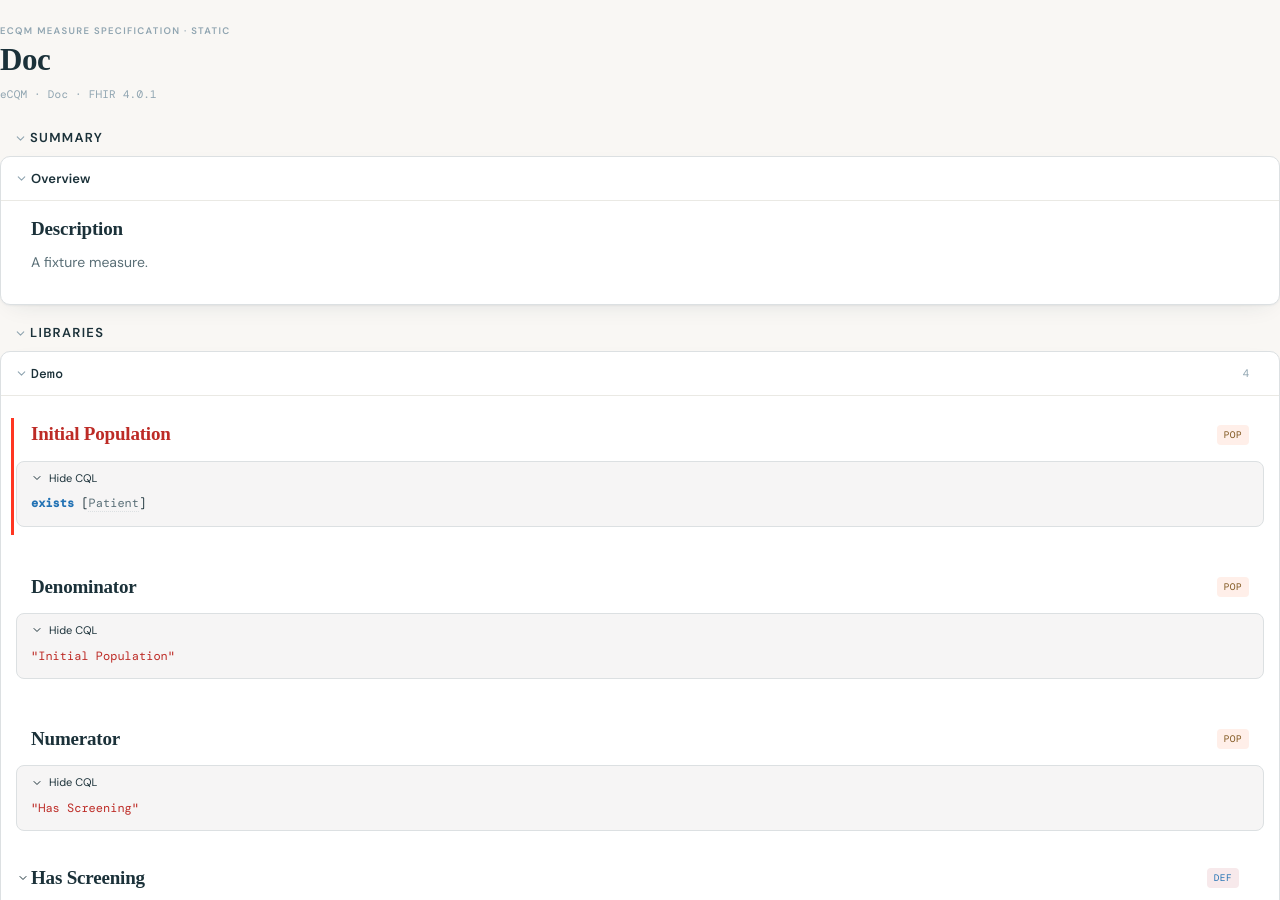
Scenario: the lens's tab and the pane's tab are independent (SPEC-REF-LENS) › switching the lens's tab leaves the pinned pane's tab alone
The width and height of the screenshot is (1280, 900).
Expected: the list item "pop Initial Population Hide CQL exists [ Patient ]" is shown, top-left (17, 410), bottom-right (1263, 543)
Click the button "Patient" at [114, 504], box top-left (89, 494), bottom-right (139, 514)
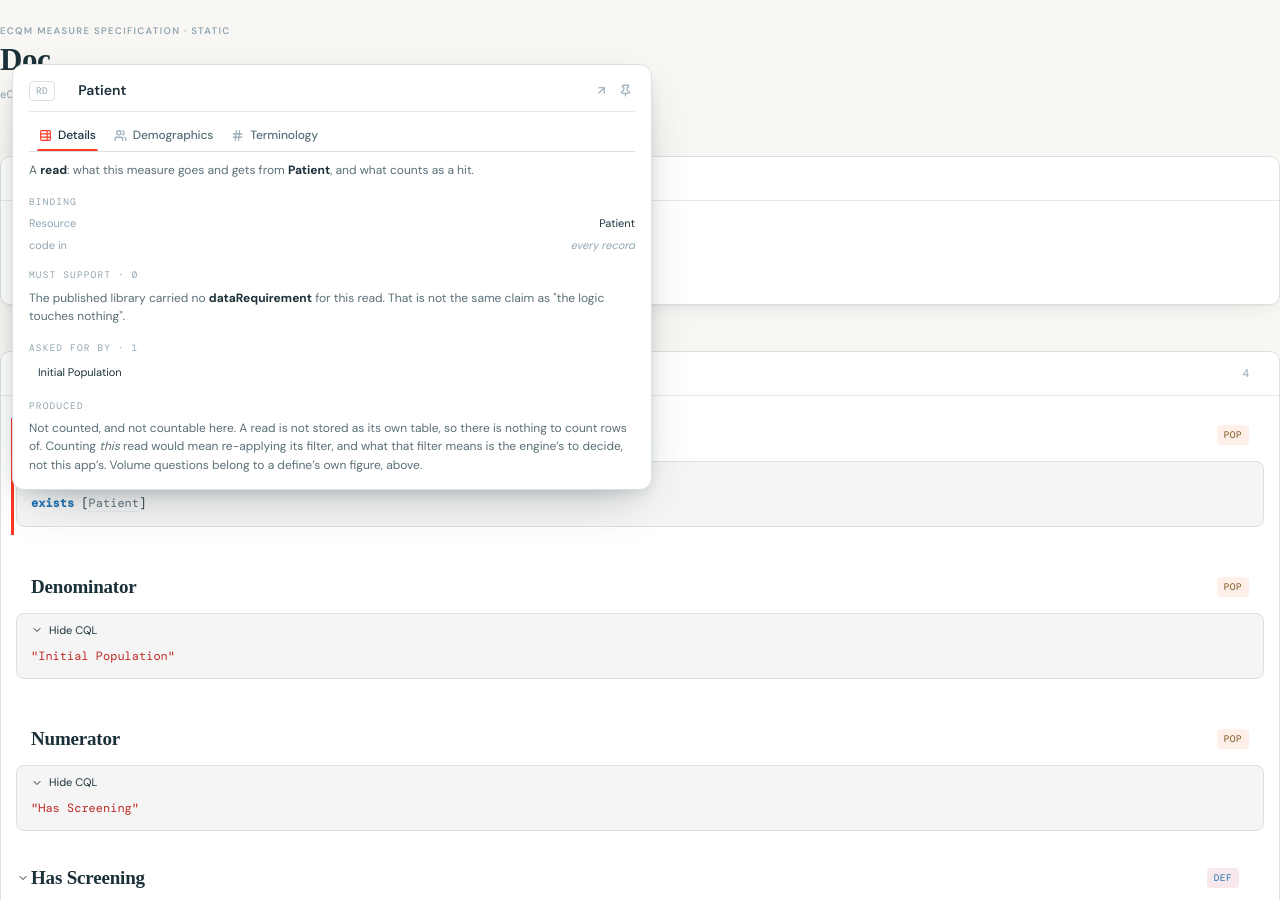
Click the tab "Terminology" at [275, 136], box top-left (223, 122), bottom-right (326, 152)
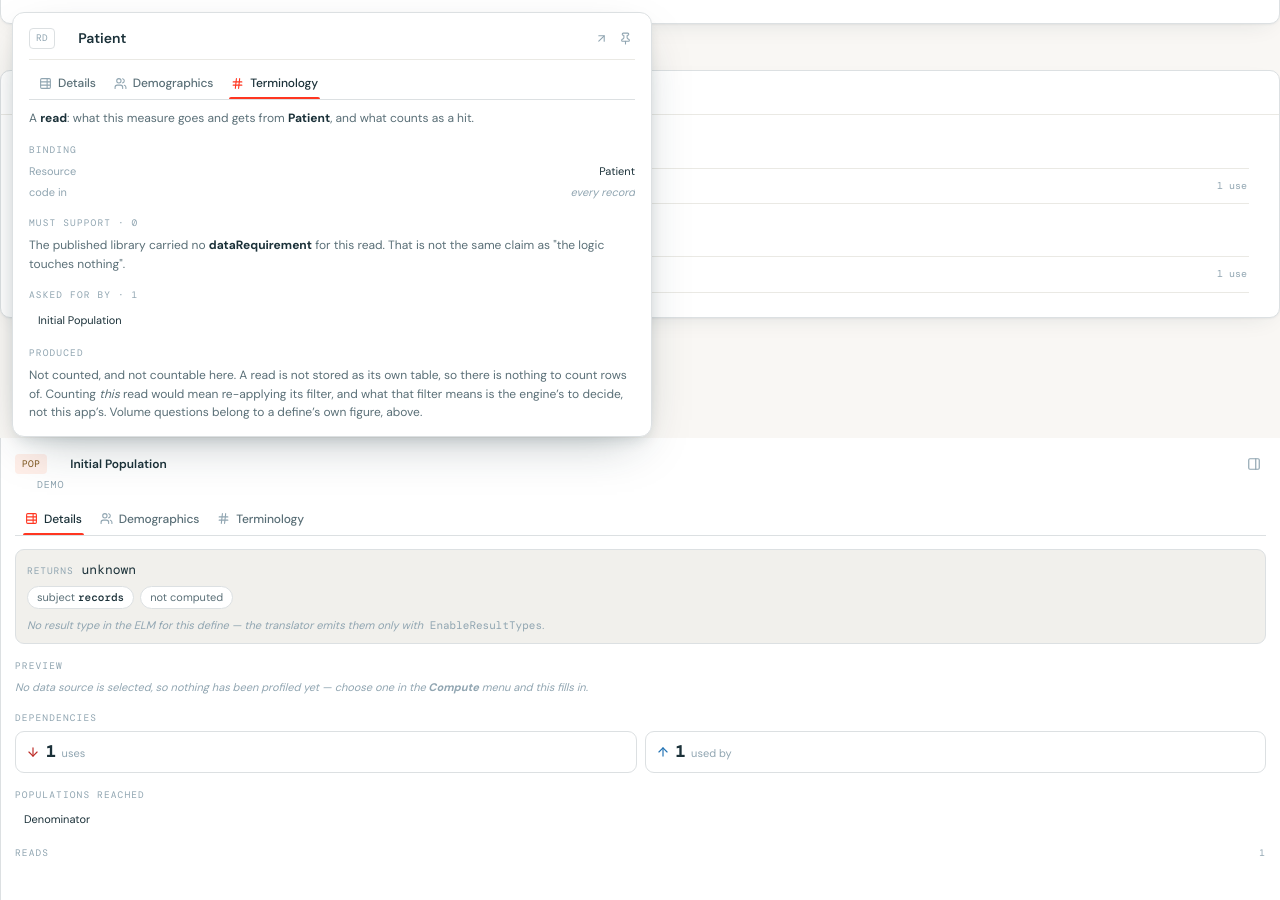
Expected: the 2nd tab "Terminology" is shown, top-left (209, 505), bottom-right (312, 535)
Expected: the 2nd tab "Details" is shown, top-left (17, 505), bottom-right (90, 535)
